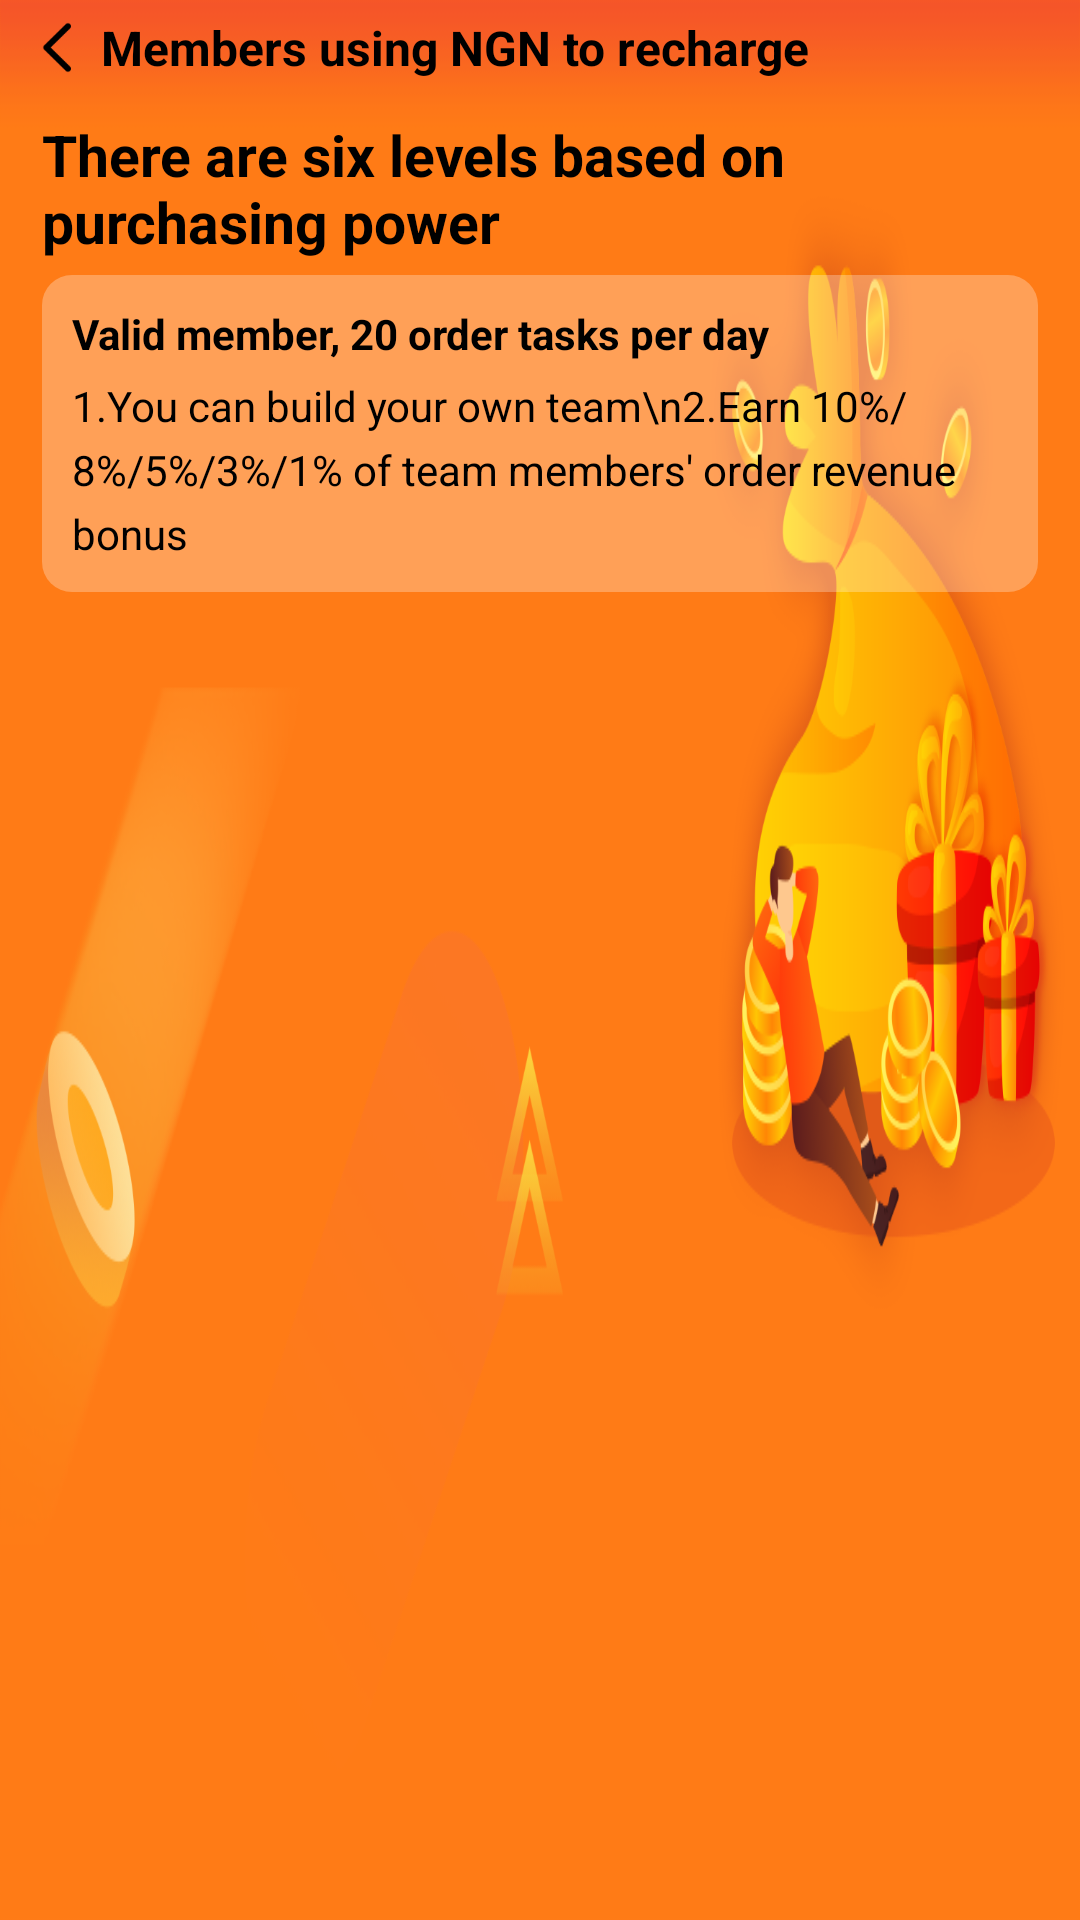

Icons on this 1080 × 1920 Android screen, each with its box as (left=x1, top=y1, right=x2, bottom=y2):
back: (left=43, top=23, right=71, bottom=72)
